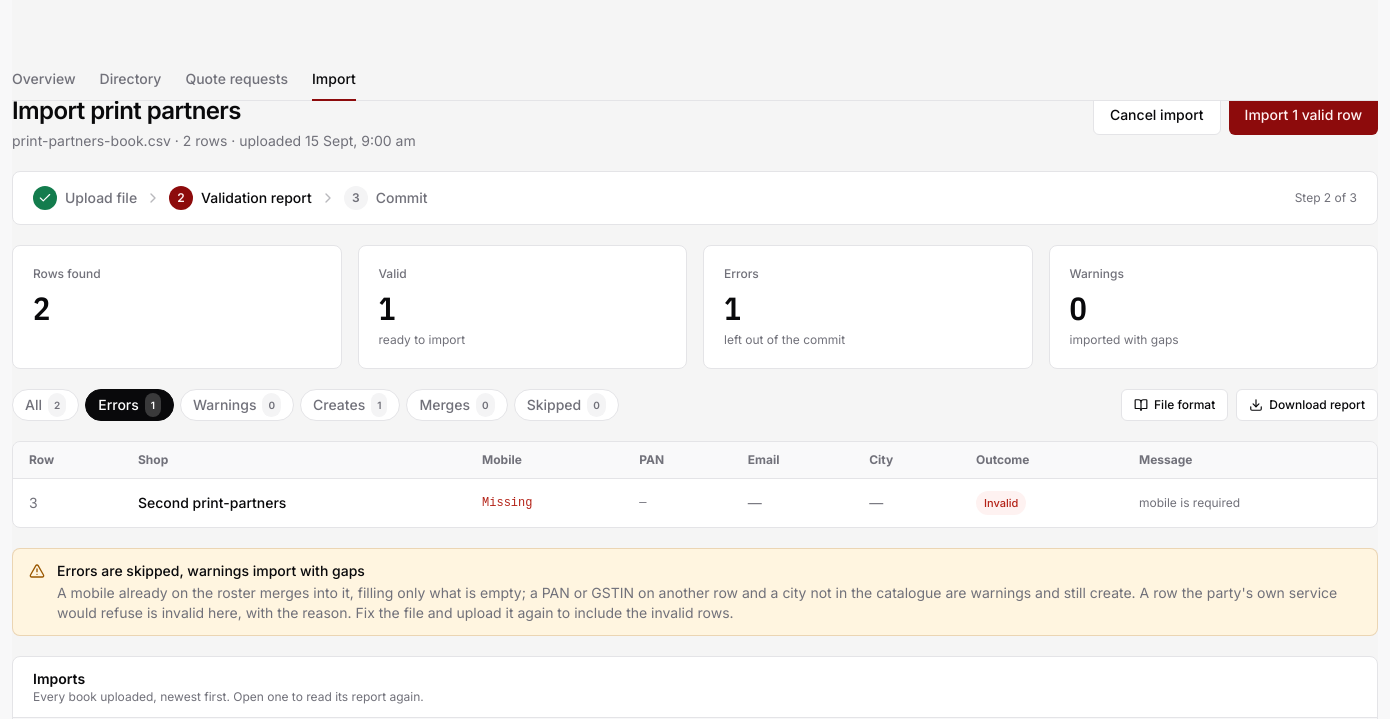
Test: the Import tab › print-partners: with ?id= reads that import under the party and draws its report on the party's grid
The width and height of the screenshot is (1390, 719).
Expected: the text "Rows found" is shown, [33,266,101,281]
Expected: the button "Import 1 valid row" is shown, [1229,95,1378,135]
Click the tab "All 2".
click(46, 405)  # box [12,389,79,421]
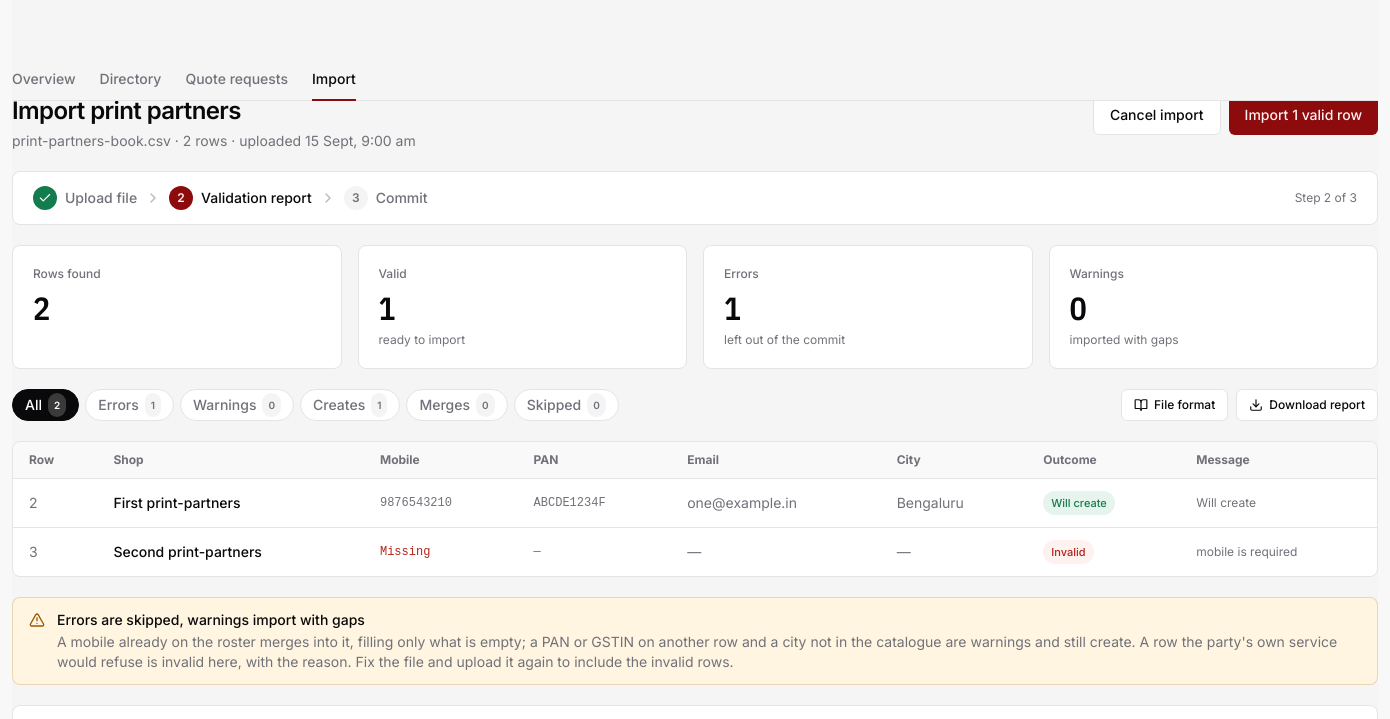
Result: the text "ABCDE1234F" is shown at [518,478,671,528]
